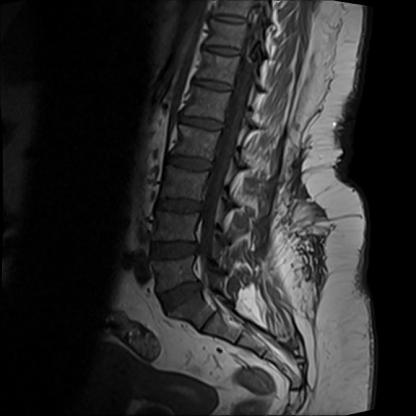Disc Bulgerotation: (155, 280, 212, 309)
